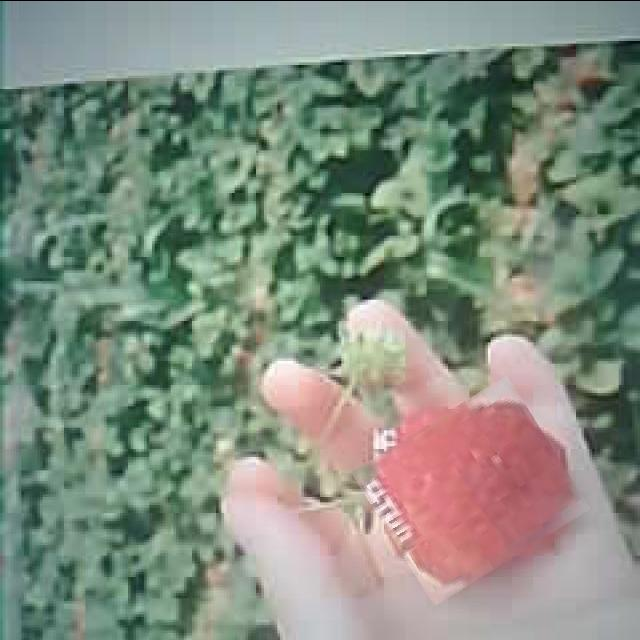strawberry: (364, 392, 576, 586)
